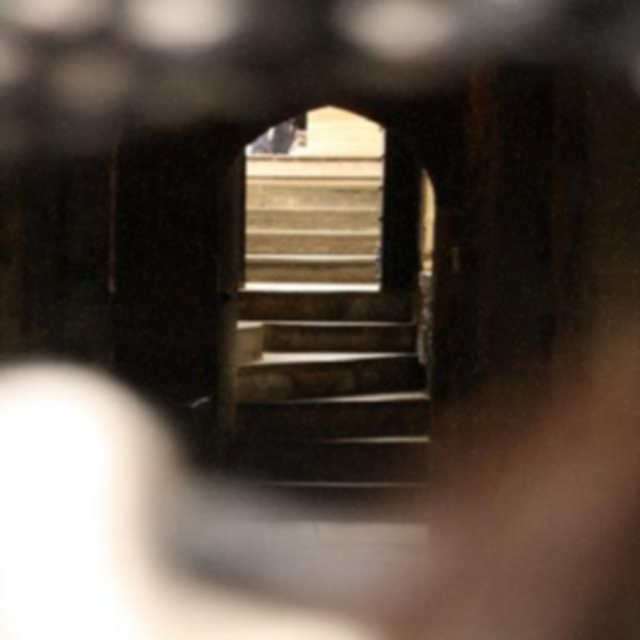stair: (233, 120, 430, 526)
